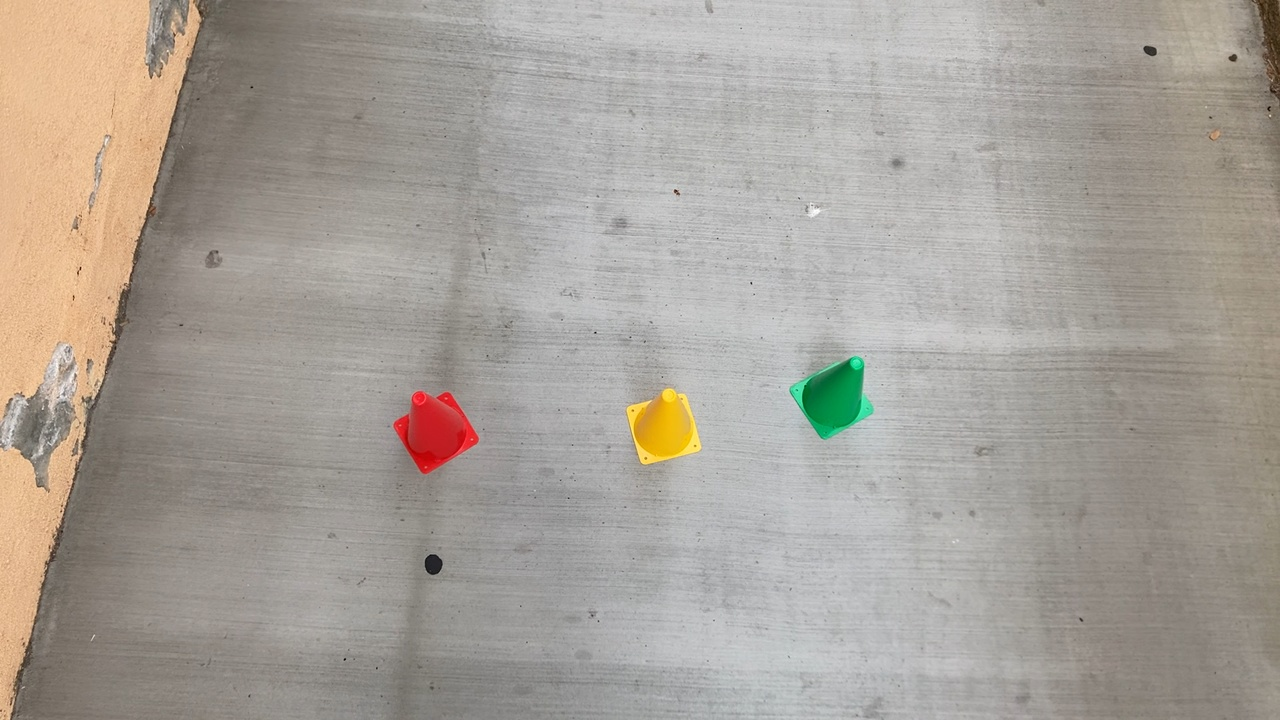green_cone: (785, 357, 878, 442)
red_cone: (390, 388, 481, 477)
yellow_cone: (621, 388, 706, 469)
